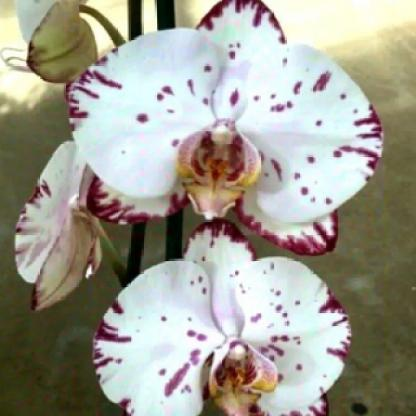ANGGREK: (35, 21, 397, 407)
